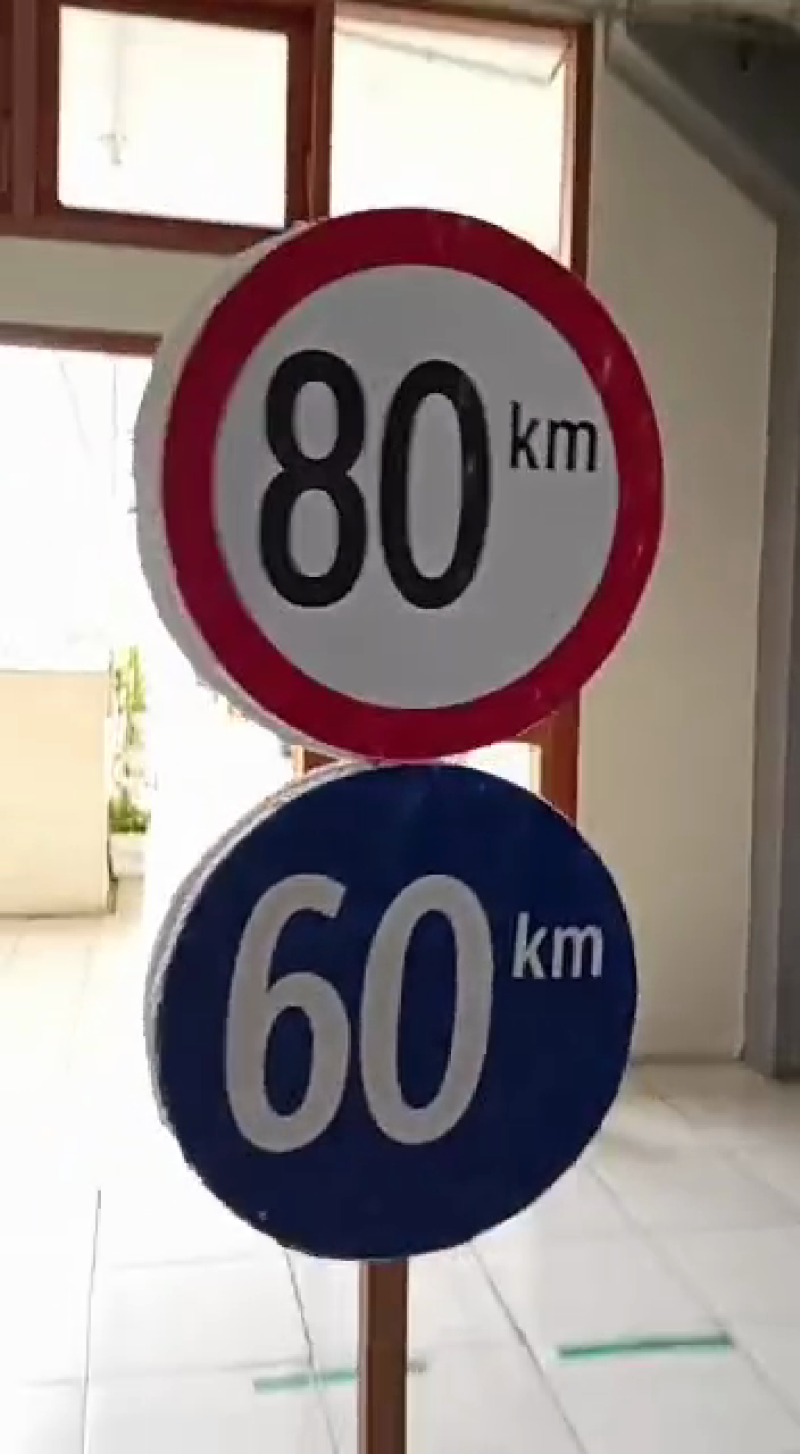batas maksimal 80kmperjam minimal 60kmperjam: (130, 198, 671, 1271)
